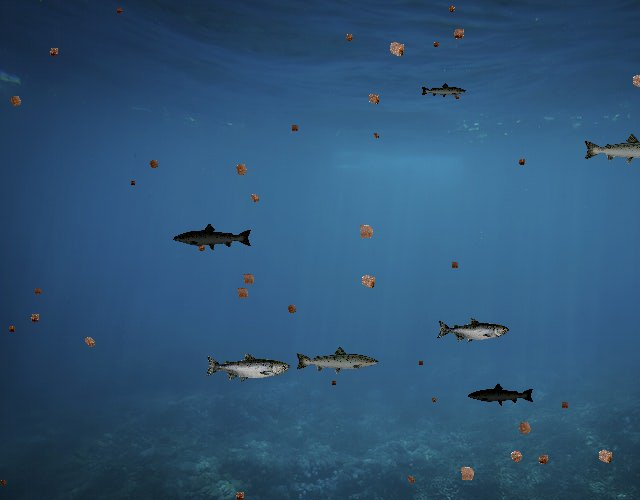Fish: (294, 345, 380, 376), (204, 352, 290, 383), (173, 222, 254, 252), (583, 132, 640, 166), (437, 317, 510, 343), (467, 383, 535, 407), (420, 83, 467, 100)
Pellet: (512, 415, 538, 441), (504, 444, 529, 469), (78, 331, 100, 353), (514, 155, 528, 169), (430, 38, 443, 51), (113, 4, 125, 16)
